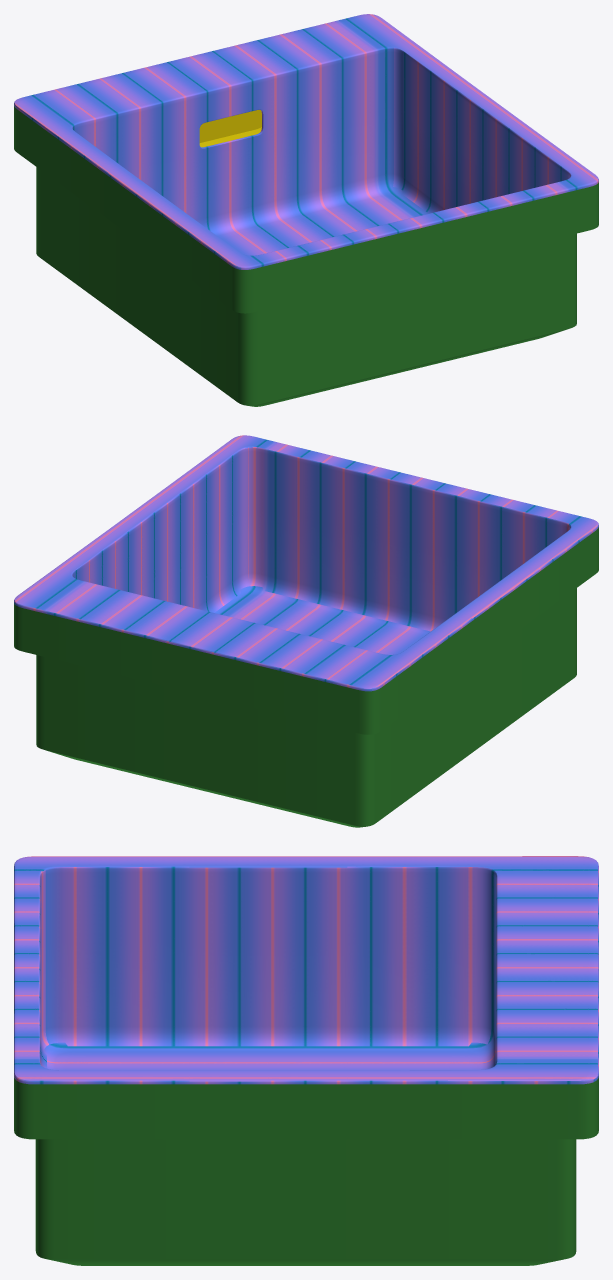
Rendered from SM_Counter_Sink.fbx.
3 renders of one model, top to bottom at view 1: azimuth 30°, elevation 25°; view 2: azimuth 150°, elevation 25°; view 3: azimuth 270°, elevation 25°, orthographic. The views are drawn at different scales.
Parts seen in each view (by area): view 1: SM_Counter_Sink; view 2: SM_Counter_Sink; view 3: SM_Counter_Sink.
Part boxes in pixels (box(x1,y1,x2,y2)): SM_Counter_Sink: box(14, 14, 598, 406); SM_Counter_Sink: box(14, 435, 598, 827); SM_Counter_Sink: box(14, 856, 598, 1265).
Size of the model in its own units: 40.5 by 17.74 by 44.5.
Materials: 4 (1 with a texture image).
